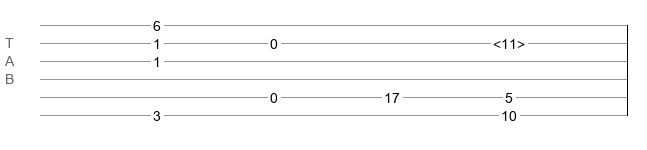0: (270, 90, 278, 100), (270, 36, 278, 46)
1: (153, 36, 161, 46), (153, 54, 161, 64)
10: (501, 108, 517, 118)
17: (384, 90, 400, 100)
3: (153, 108, 161, 118)
5: (505, 90, 513, 100)
6: (153, 18, 161, 28)
harmonic: (493, 36, 525, 46)
